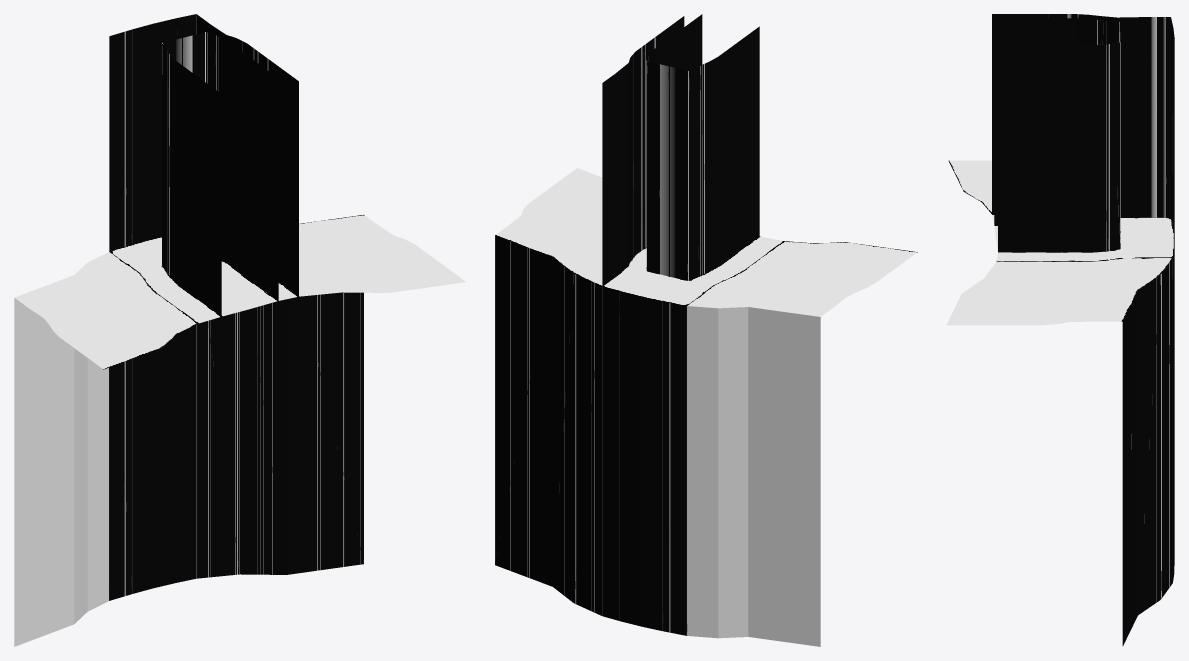
The model's file is Area6Mesh.fbx.
The picture shows the model from 3 angles, left to right: view 1: azimuth 30°, elevation 25°; view 2: azimuth 150°, elevation 25°; view 3: azimuth 270°, elevation 25°; orthographic projection. The views are drawn at different scales.
Parts seen in each view (by area): view 1: Terrain, Wall1, Wall2, Traversable; view 2: Terrain, Wall1, Wall2, Traversable; view 3: Terrain, Wall1, Wall2, Traversable.
Boxes of the visible parts, left/top/right/bottom form: Terrain: left=14, top=215, right=465, bottom=646; Wall1: left=162, top=32, right=278, bottom=316; Wall2: left=109, top=14, right=298, bottom=296; Traversable: left=109, top=237, right=298, bottom=323; Terrain: left=495, top=168, right=917, bottom=646; Wall1: left=646, top=14, right=759, bottom=280; Wall2: left=602, top=16, right=684, bottom=285; Traversable: left=603, top=236, right=783, bottom=305; Terrain: left=946, top=160, right=1174, bottom=646; Wall1: left=994, top=18, right=1120, bottom=252; Wall2: left=992, top=14, right=1174, bottom=237; Traversable: left=992, top=214, right=1174, bottom=261.
Bounding box in the file's own units: 20633 × 31166 × 12100.
1 material, 1 textured.
